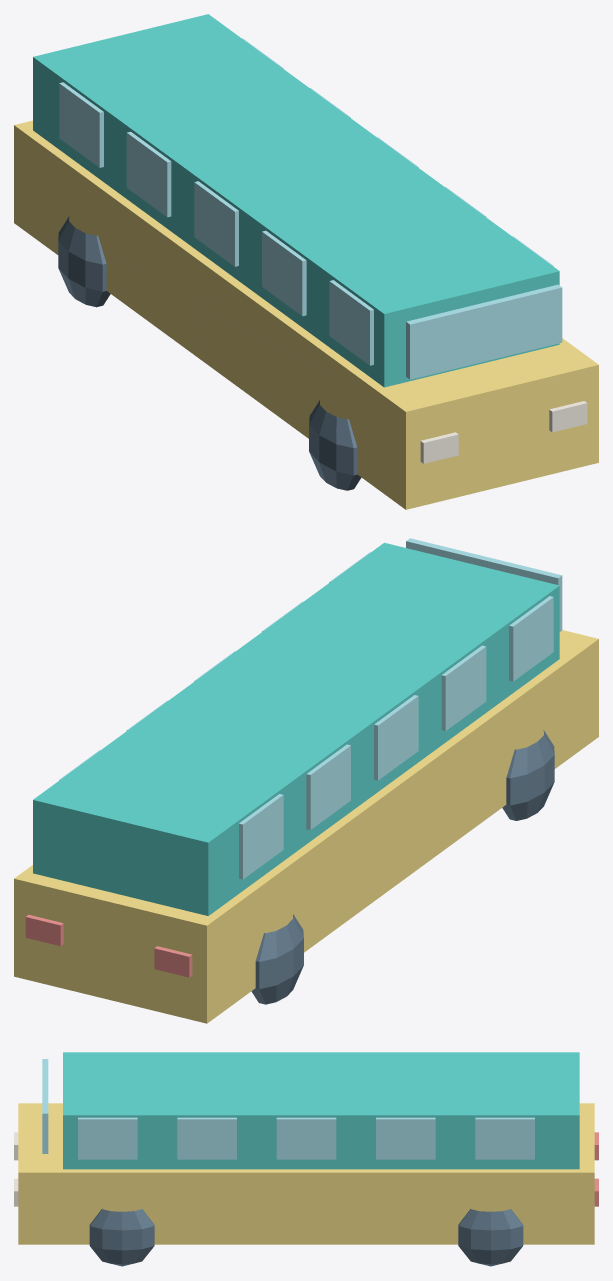
File: 21_parked_bus.glb
The picture shows the model from 3 angles, top to bottom: view 1: azimuth 30°, elevation 25°; view 2: azimuth 150°, elevation 25°; view 3: azimuth 270°, elevation 25°; orthographic projection. The views are drawn at different scales.
Visible parts, largest first — view 1: 21_parked_bus; view 2: 21_parked_bus; view 3: 21_parked_bus.
Boxes of the visible parts, x1,y1,x2,y2 form: 21_parked_bus: (14,14,598,509); 21_parked_bus: (14,538,598,1023); 21_parked_bus: (14,1052,598,1266).
Size of the model in its own units: 1.92 by 1.65 by 5.89.
